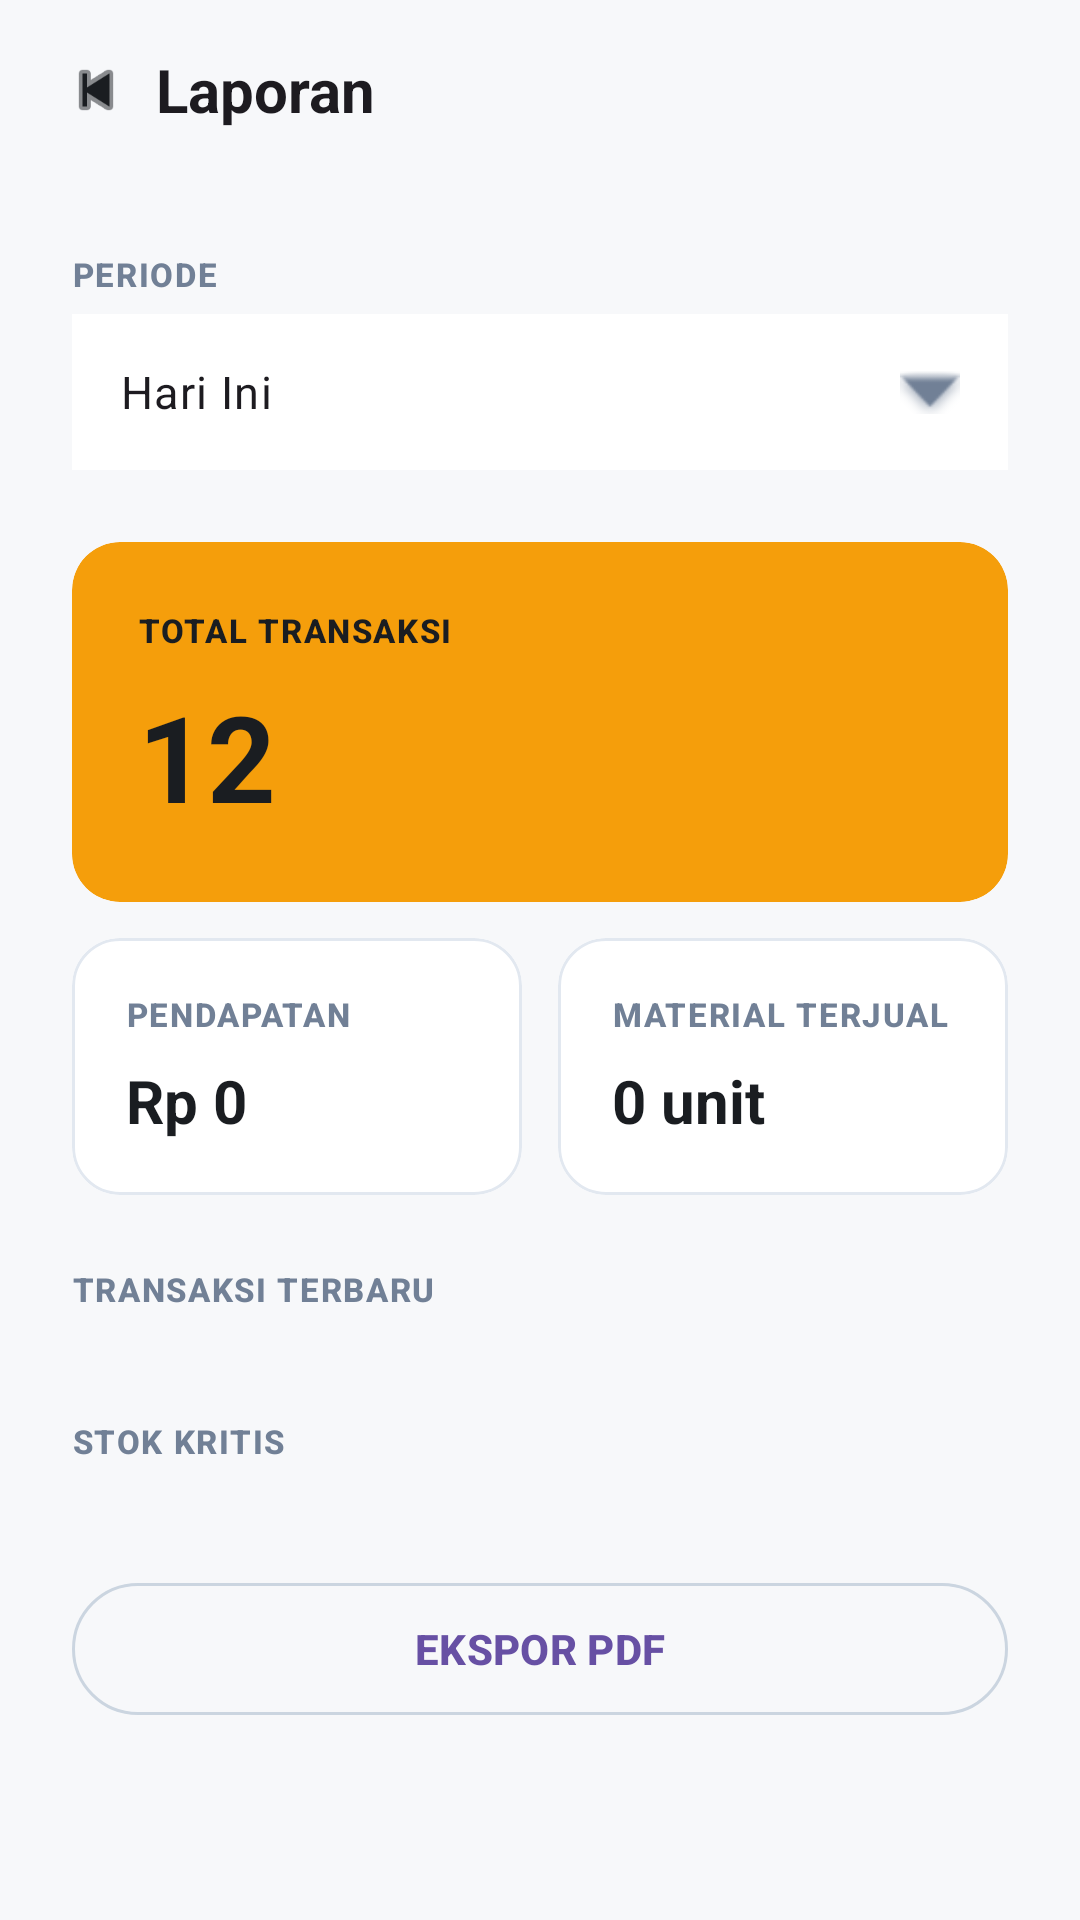

Icon click points for this 1080 x 1920 phone screenshot, format (x,y):
arrow down float: (930,391)
Kembali: (96,90)
